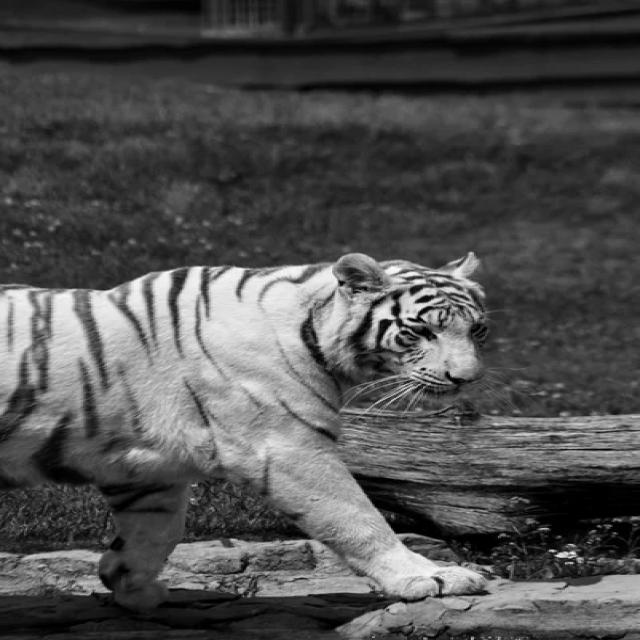Animal: (1, 254, 488, 613)
